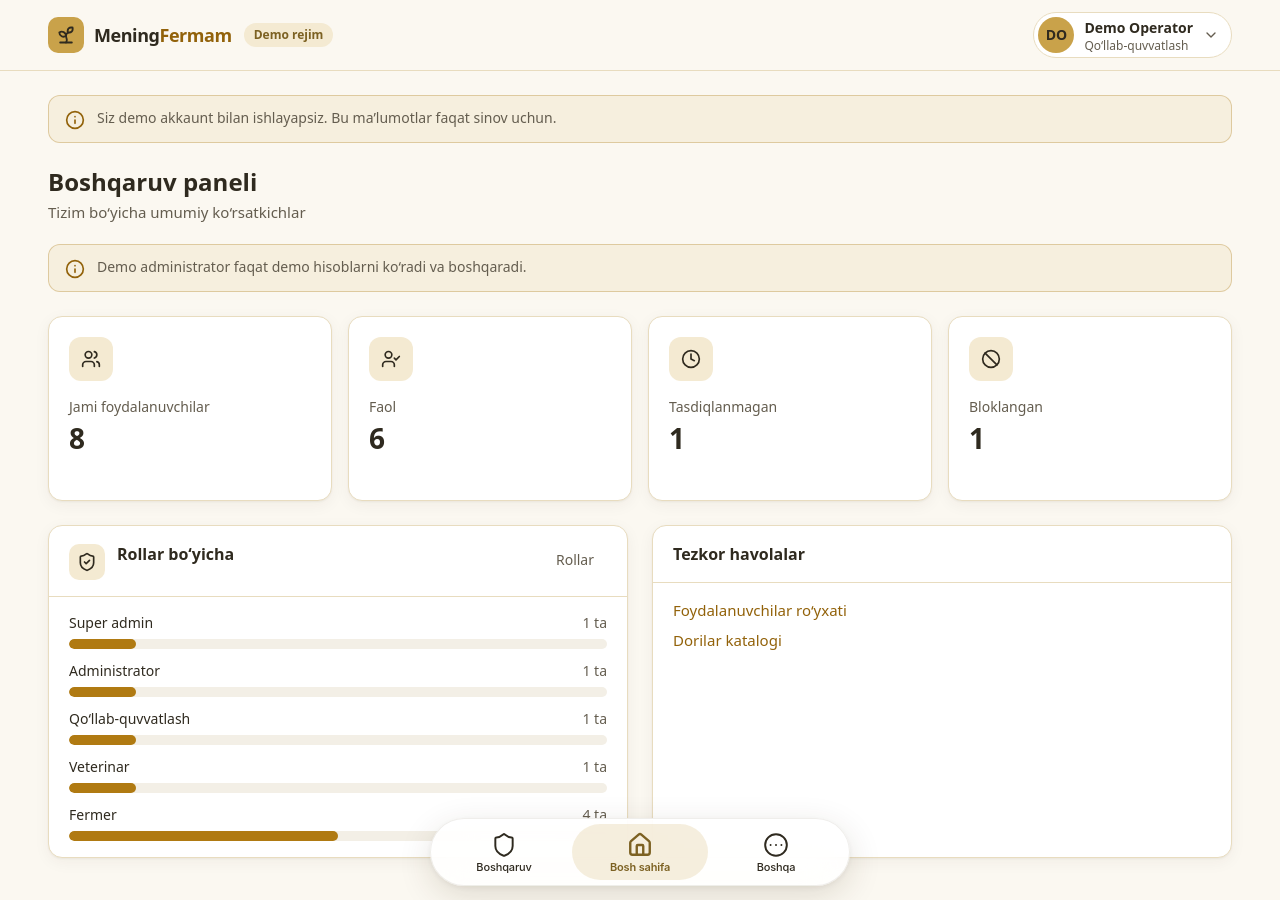
tab bar › gives staff their own sheets around the role home
This screenshot has width=1280, height=900.
Click the button "Boshqaruv". click: coordinates (504, 852)
box: [436,824,572,880]
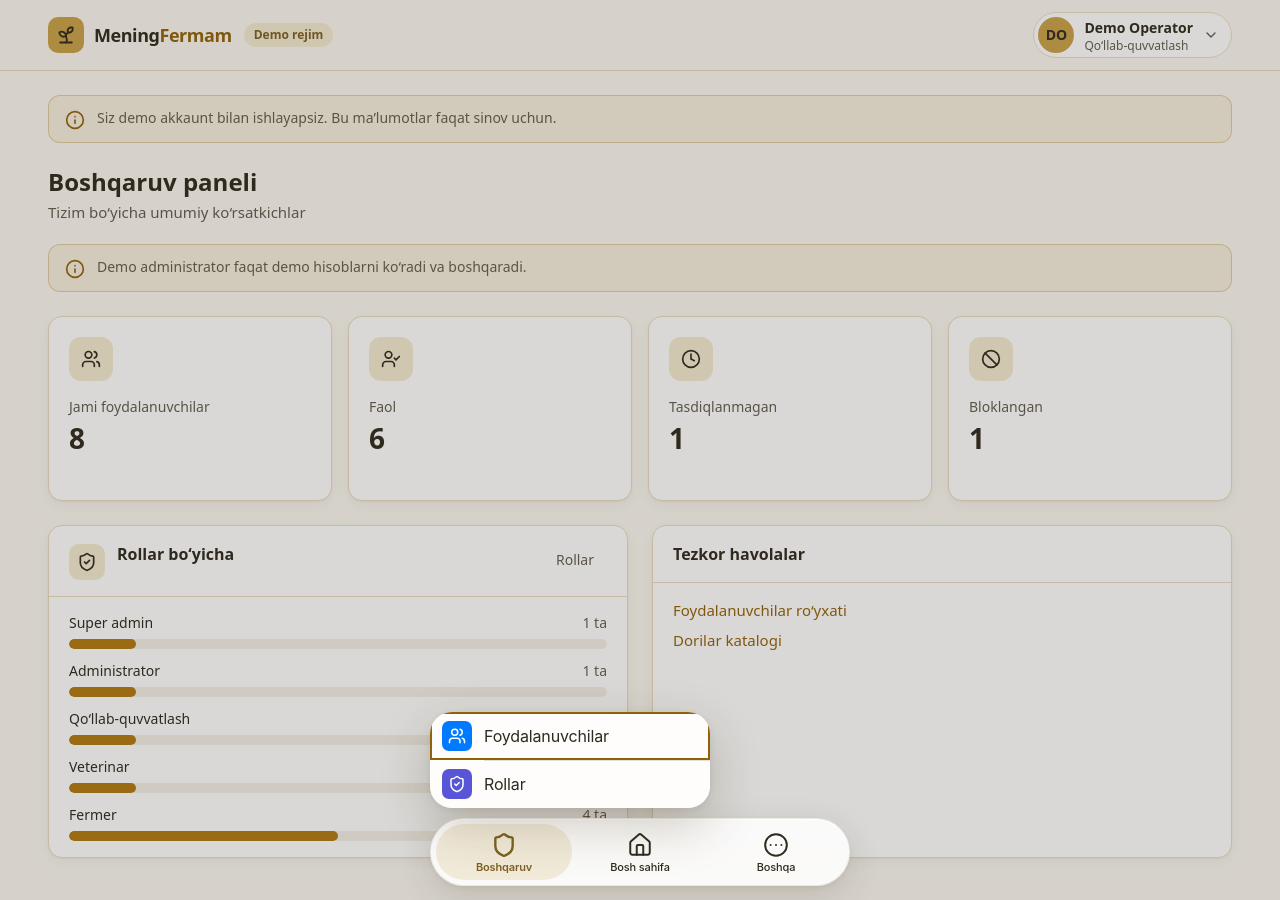
Check: the links read "Foydalanuvchilar", "Rollar", in this order, box [442,721,609,751]; [442,769,526,799]
